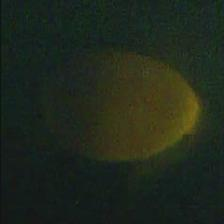fertile: (54, 48, 206, 164)
